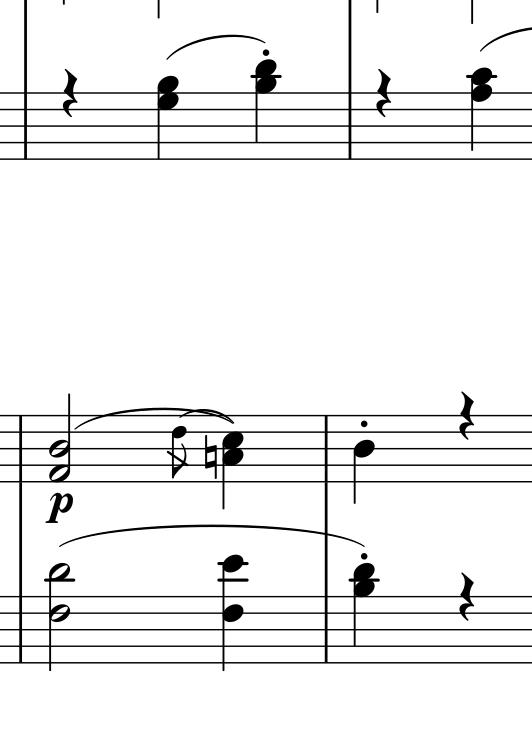2_1_4: (48, 393, 72, 482)
2_6_11: (44, 562, 75, 671)
4_3_5: (221, 415, 245, 511)
4_4: (352, 414, 378, 506)
4_6_12: (218, 554, 249, 671)
4_7_9: (156, 75, 179, 162)
4_8_10: (466, 67, 497, 161)
4_9_11: (251, 59, 282, 161), (348, 562, 378, 663)
Natural: (202, 436, 219, 483)
Rests4: (458, 570, 478, 624), (60, 68, 79, 119), (374, 68, 393, 119), (459, 390, 475, 442)
Single_barline: (18, 91, 34, 162), (318, 414, 334, 483), (13, 594, 29, 663), (13, 415, 29, 483), (343, 91, 357, 158), (321, 596, 332, 664)
Slur: (59, 524, 373, 548), (73, 407, 231, 429), (165, 33, 270, 61)
p: (46, 492, 75, 524)
